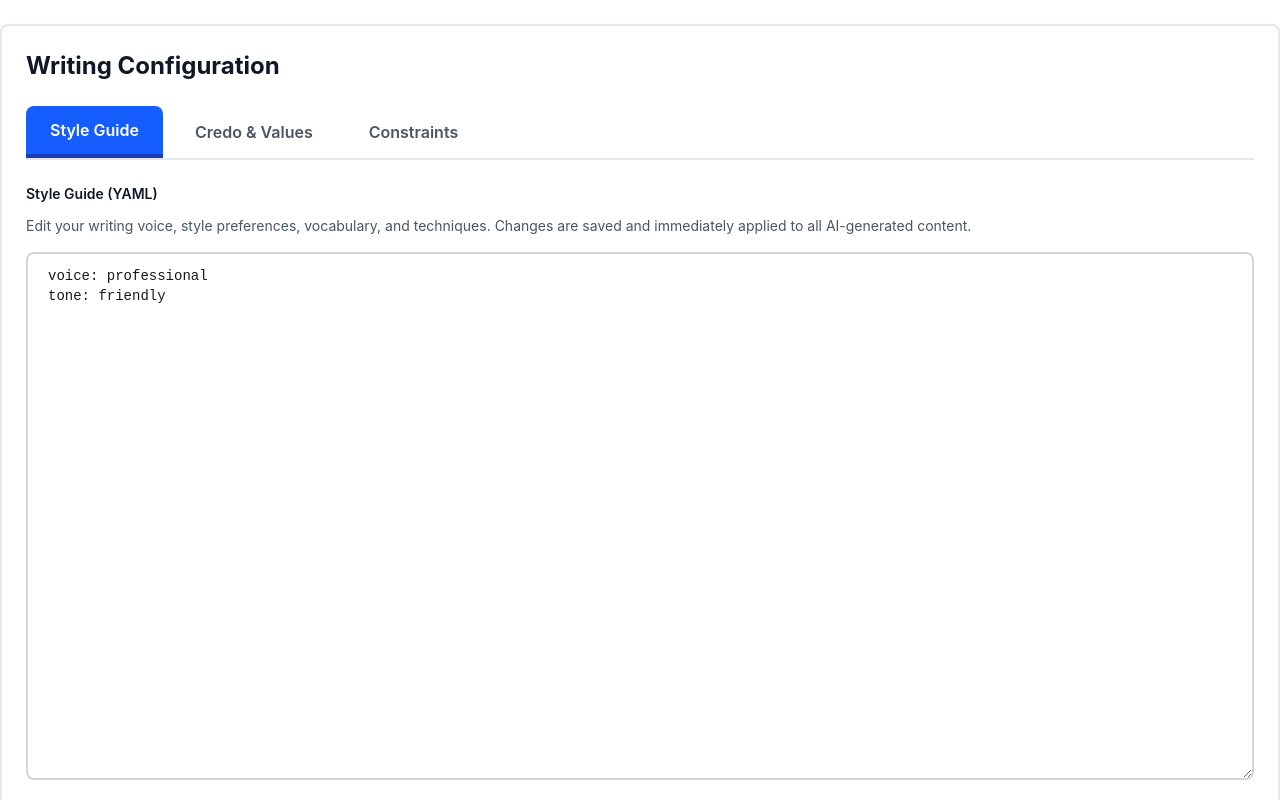
Scenario: ConfigTab - Constraints Editor › should display constraints content when constraints tab is selected
This screenshot has width=1280, height=800.
Note: Switch to constraints tab
What coordinates should you click on to do the following:
click the button "Constraints"
I would click on:
 (414, 132)
Its box is [345,106,482,158].
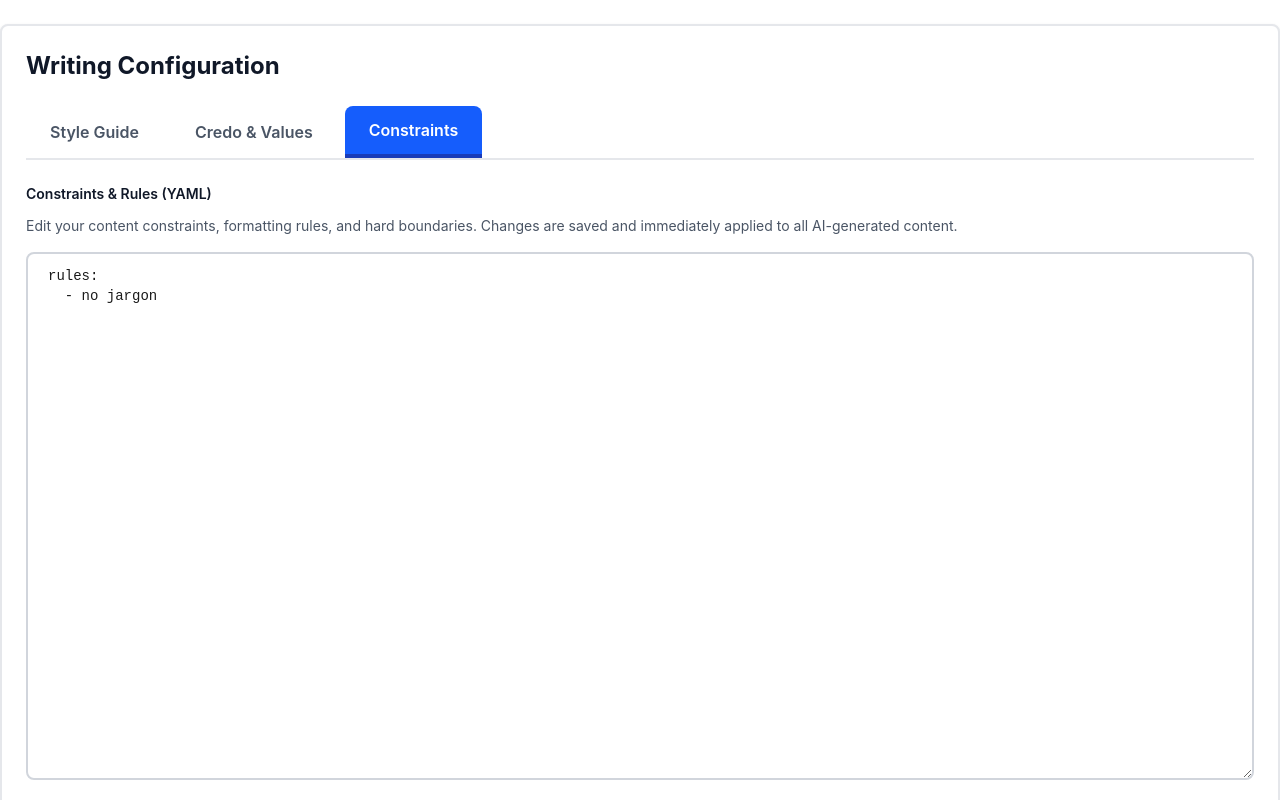
Expected: the text box showing "rules:" is shown
